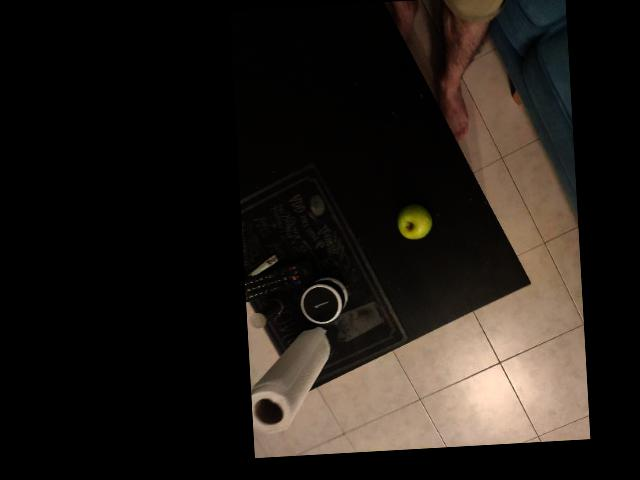apple: (392, 199, 431, 244)
